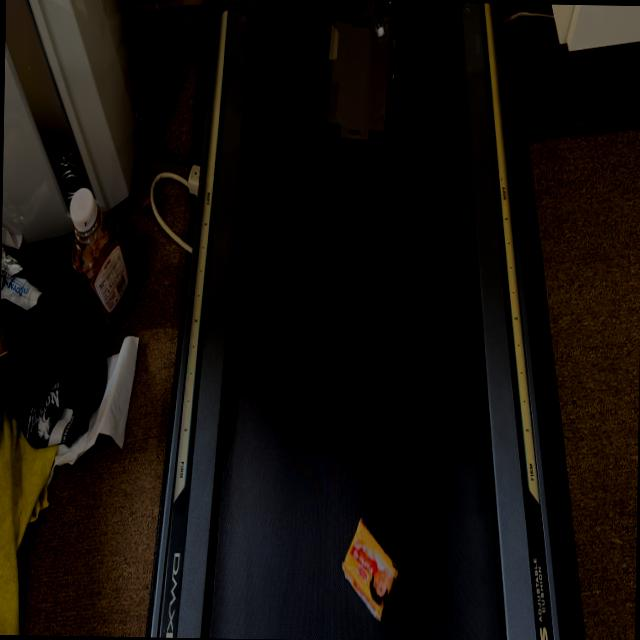Trash: (320, 5, 410, 147), (341, 518, 402, 622)
